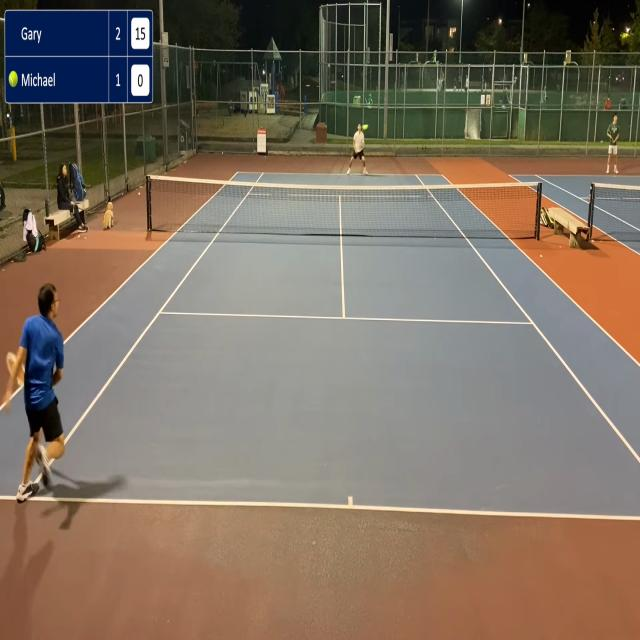ball: (363, 124, 368, 130), (138, 192, 140, 196), (222, 152, 224, 154)
